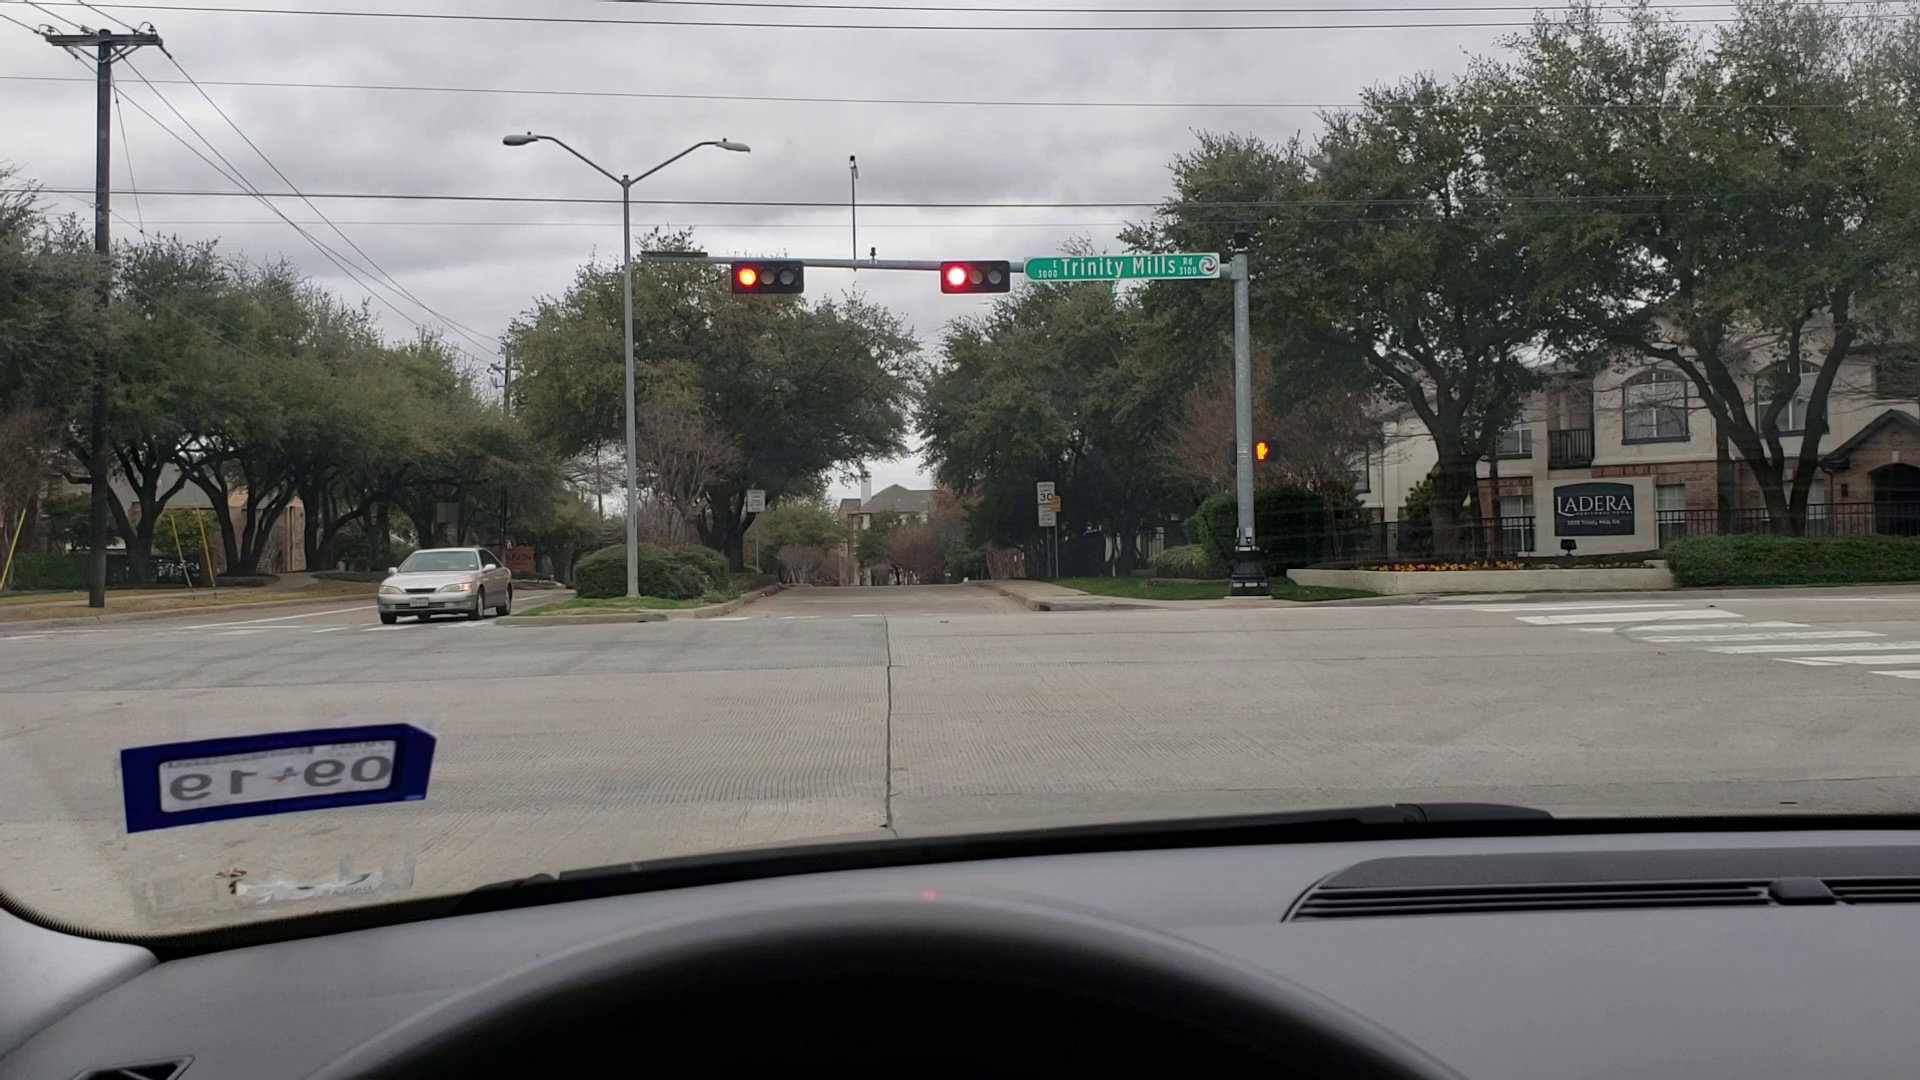car: (377, 546, 516, 626)
traffic light: (725, 258, 804, 294), (938, 261, 1015, 293)
